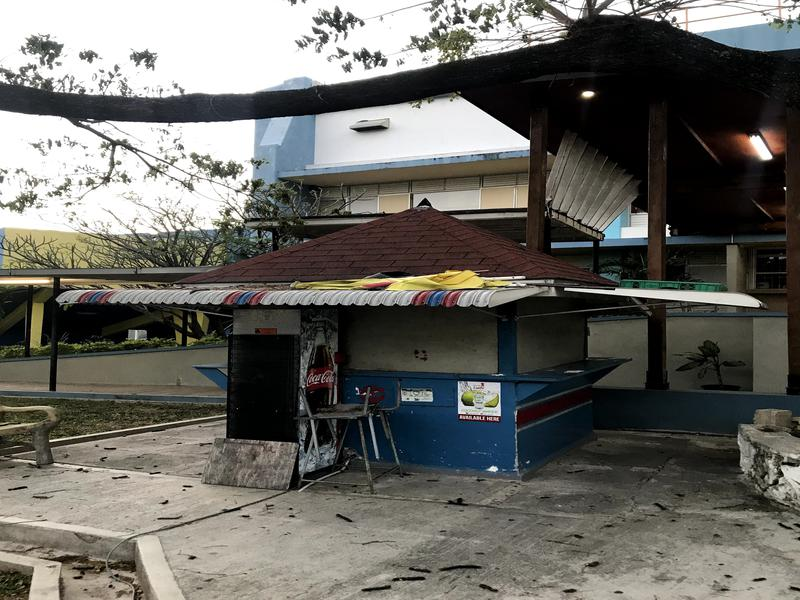18.0051667_-76.74944412_librarystall: (174, 186, 637, 494)
